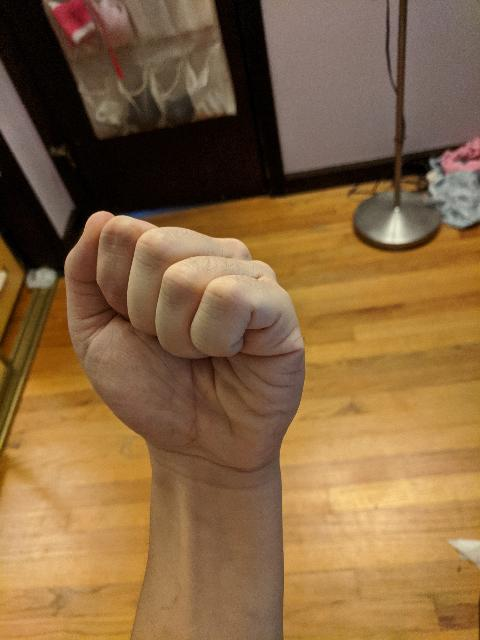A: (57, 206, 311, 487)
